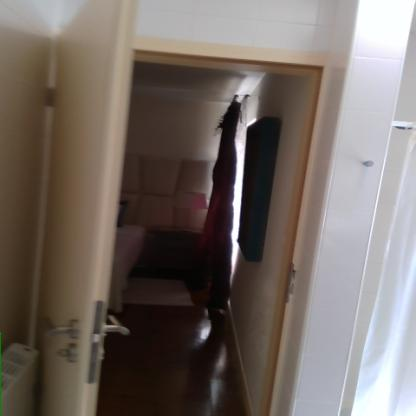open: (59, 9, 347, 414)
